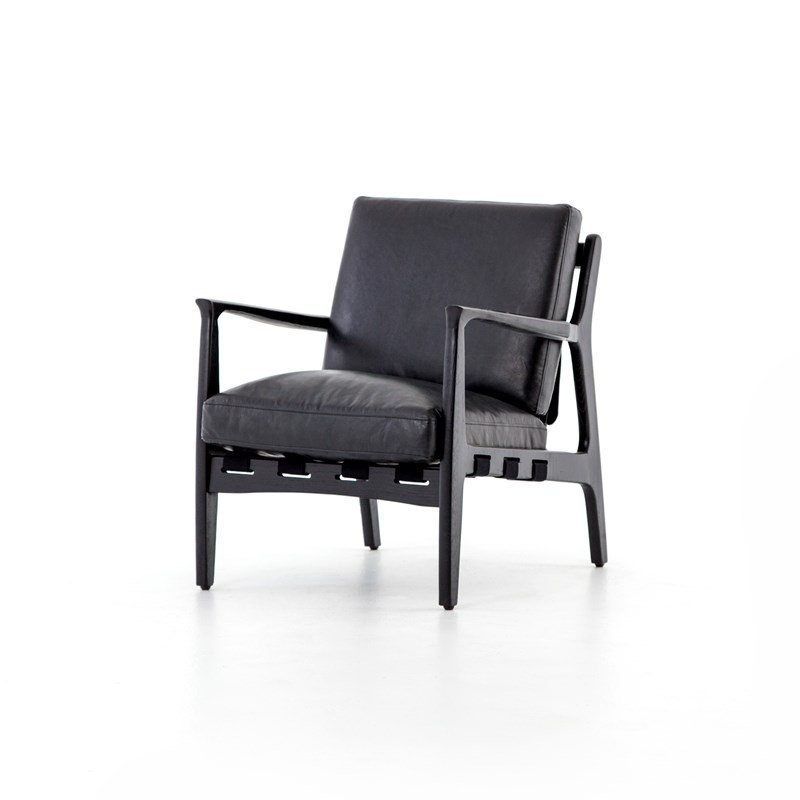obstacle: (196, 197, 606, 608)
